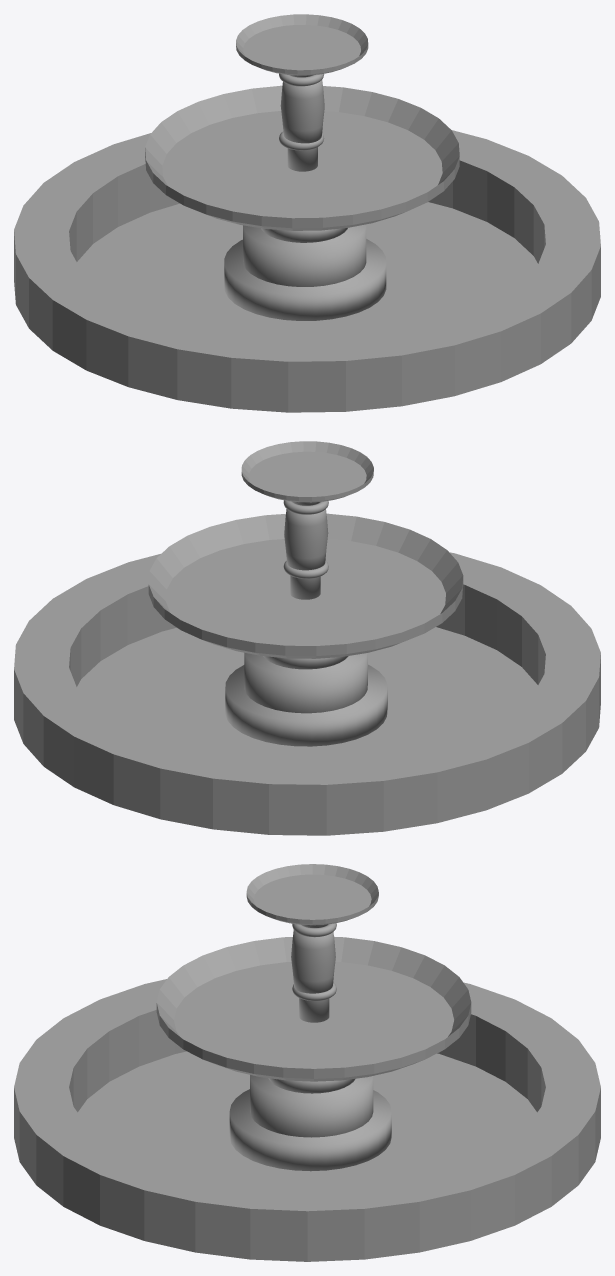
The model's file is funsui_kansei.fbx.
The picture shows the model from 3 angles, top to bottom: view 1: azimuth 30°, elevation 25°; view 2: azimuth 150°, elevation 25°; view 3: azimuth 270°, elevation 25°; orthographic projection.
Parts seen in each view (by area): view 1: 円柱; view 2: 円柱; view 3: 円柱.
Boxes of the visible parts, x1,y1,x2,y2 form: 円柱: [14, 14, 600, 412]; 円柱: [14, 441, 600, 835]; 円柱: [14, 864, 600, 1261].
Size of the model in its own units: 224 by 224 by 103.
